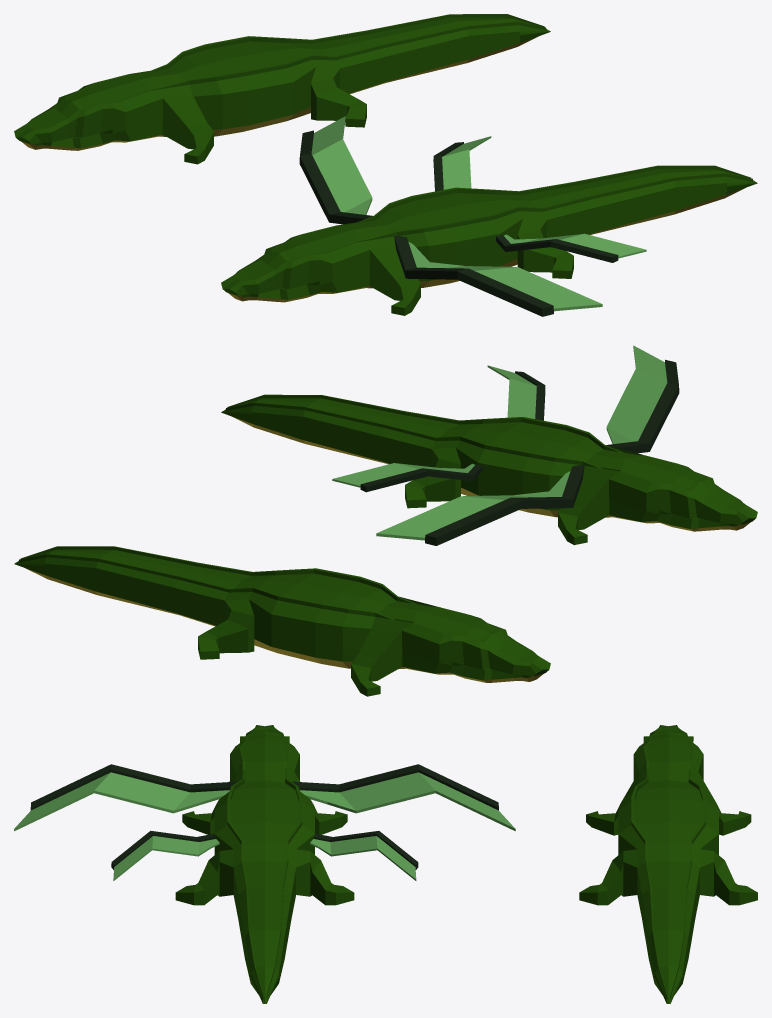
File: crocodiles.fbx
3 views of the same model, one above another, from view 1: azimuth 30°, elevation 25°; view 2: azimuth 150°, elevation 25°; view 3: azimuth 270°, elevation 25° (orthographic). The views are drawn at different scales.
Parts seen in each view (by area): view 1: Plane, Plane.001, Плоскость, Плоскость.001; view 2: Plane, Plane.001, Плоскость, Плоскость.001; view 3: Plane, Plane.001, Плоскость, Плоскость.001.
Boxes of the visible parts, box(x1,y1,x2,y2) form: Plane: box(14, 14, 550, 164); Plane.001: box(221, 165, 757, 315); Плоскость: box(299, 116, 602, 316); Плоскость.001: box(433, 136, 646, 262); Plane: box(14, 546, 550, 696); Plane.001: box(221, 394, 757, 545); Плоскость: box(376, 345, 679, 545); Плоскость.001: box(332, 365, 545, 492); Plane: box(579, 725, 757, 1003); Plane.001: box(175, 725, 354, 1003); Плоскость: box(14, 764, 515, 831); Плоскость.001: box(111, 830, 418, 880).
Size of the model in its own units: 351 by 45.79 by 433.
